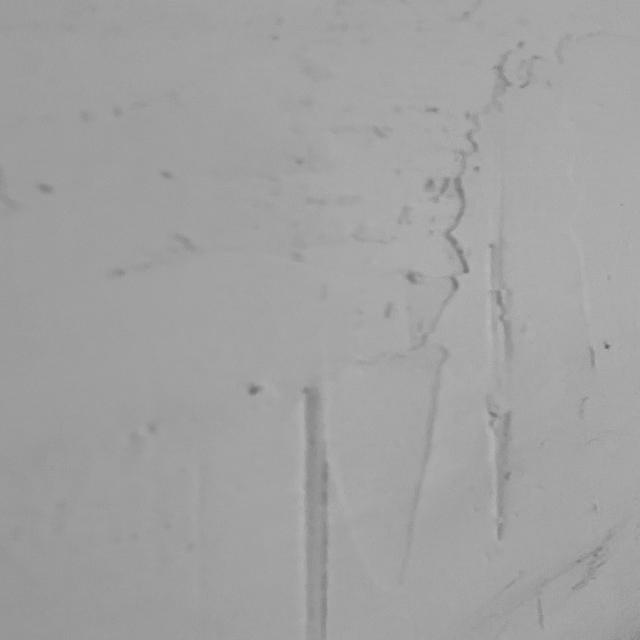rough and patchy surface: (356, 16, 582, 382), (450, 393, 540, 539), (78, 220, 215, 294), (293, 375, 330, 640), (570, 332, 619, 426), (20, 171, 81, 208), (122, 162, 180, 200), (224, 372, 268, 415), (127, 408, 168, 452), (75, 104, 143, 126)
stain marks: (474, 522, 625, 639)
